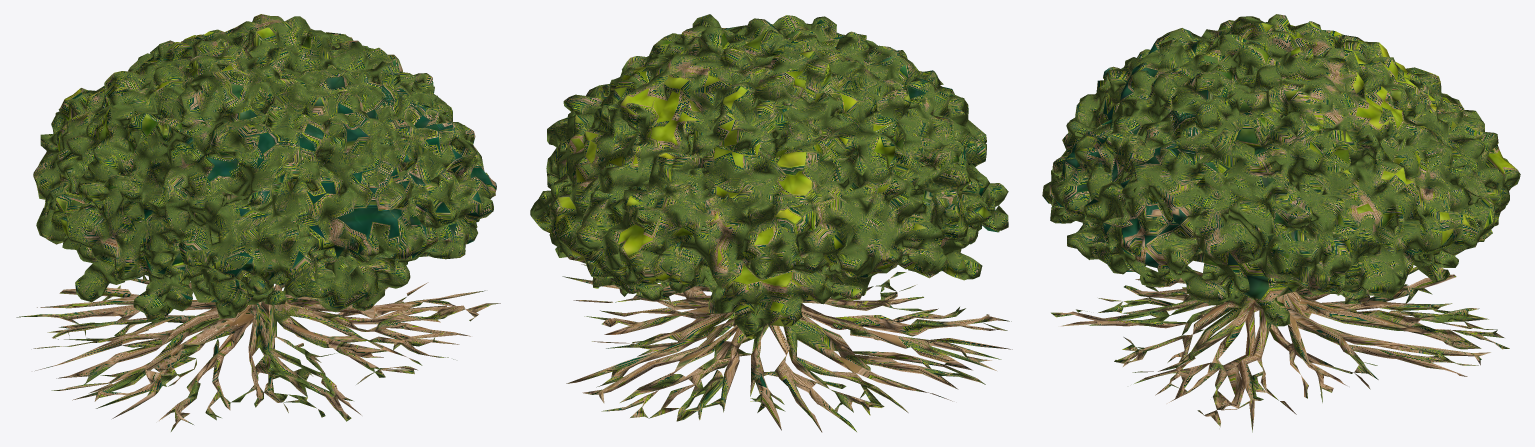
3 renders of one model, left to right at view 1: azimuth 30°, elevation 25°; view 2: azimuth 150°, elevation 25°; view 3: azimuth 270°, elevation 25°, orthographic.
Size of the model in its own units: 1.98 by 1.29 by 1.94.
Materials: 1 (1 with a texture image).
